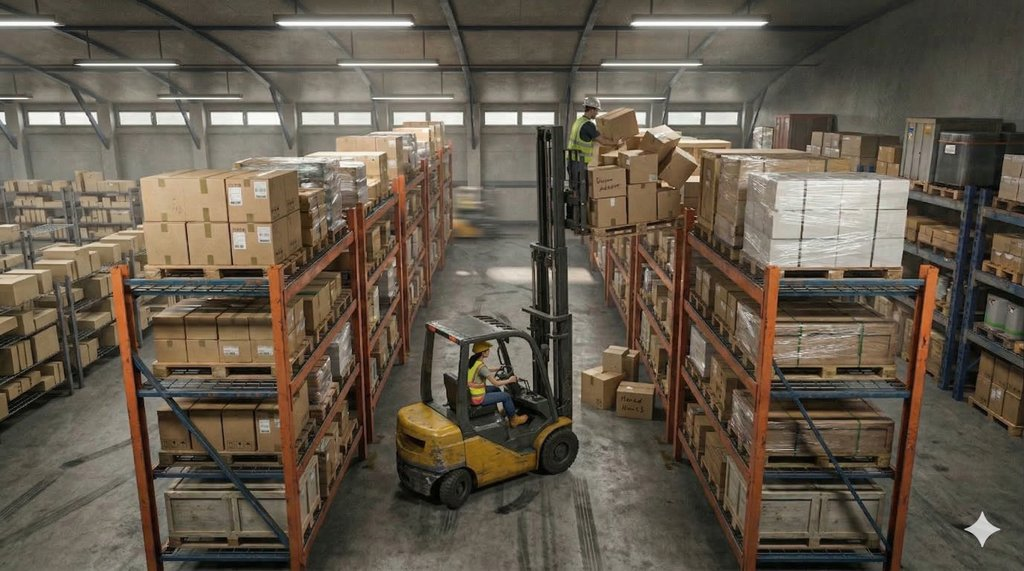forklift: (384, 295, 637, 512)
pallet: (769, 259, 921, 277)
person: (553, 88, 611, 247), (452, 338, 519, 430)
safety_helmet: (579, 92, 602, 110), (467, 343, 504, 352)
safety_vest: (566, 112, 604, 172), (459, 354, 490, 401)
